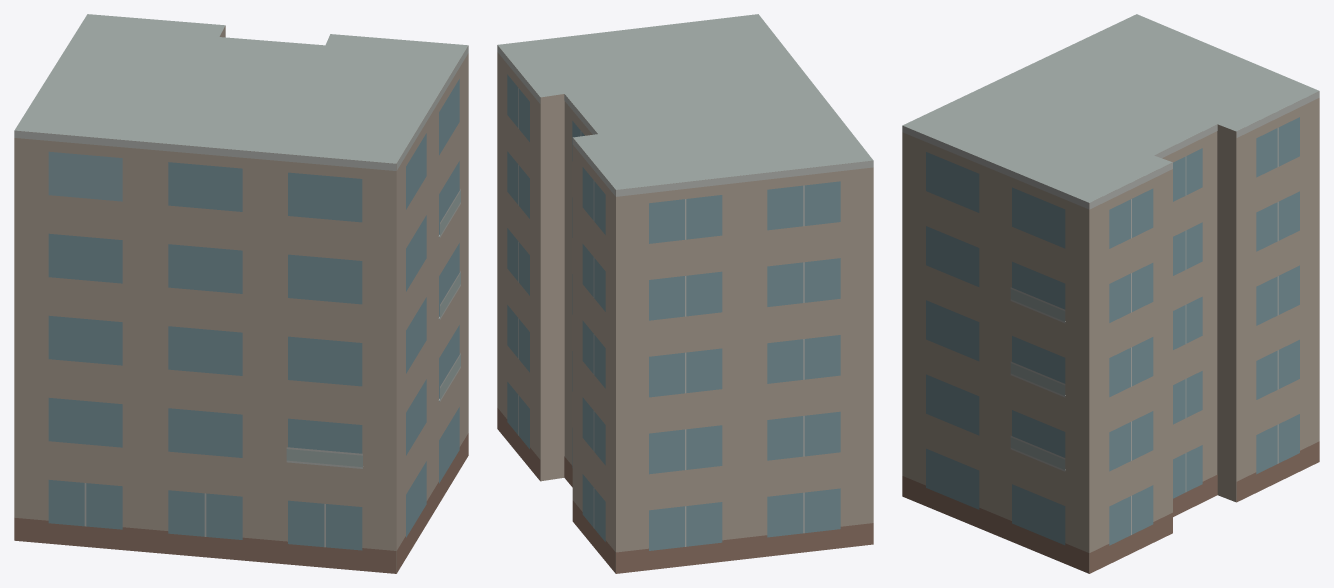
File: survey-upis-32782602.glb
3 views of the same model, side by side, from view 1: azimuth 30°, elevation 25°; view 2: azimuth 150°, elevation 25°; view 3: azimuth 270°, elevation 25° (orthographic). The views are drawn at different scales.
Visible parts, largest first — view 1: survey-upis-32782602.tmp; view 2: survey-upis-32782602.tmp; view 3: survey-upis-32782602.tmp.
Part boxes in pixels (box(x1,y1,x2,y2)): survey-upis-32782602.tmp: box(14, 14, 468, 573); survey-upis-32782602.tmp: box(497, 14, 873, 573); survey-upis-32782602.tmp: box(902, 14, 1319, 573).
Size of the model in its own units: 14.81 by 13.55 by 13.82.
